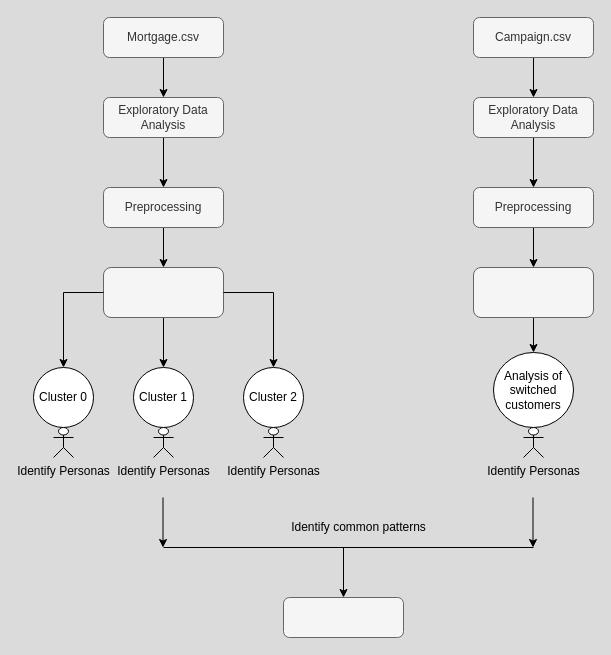
Some shapes in this 611 by 655 pixel diagram are drawn without their labels. Each missing label, with the centre of its shape:
"Apply KMeans to create clusters" belongs at point (163, 292).
"Build models to predict missing target [created_account]" belongs at point (533, 292).
"Suggest customers for marketing" belongs at point (343, 617).
